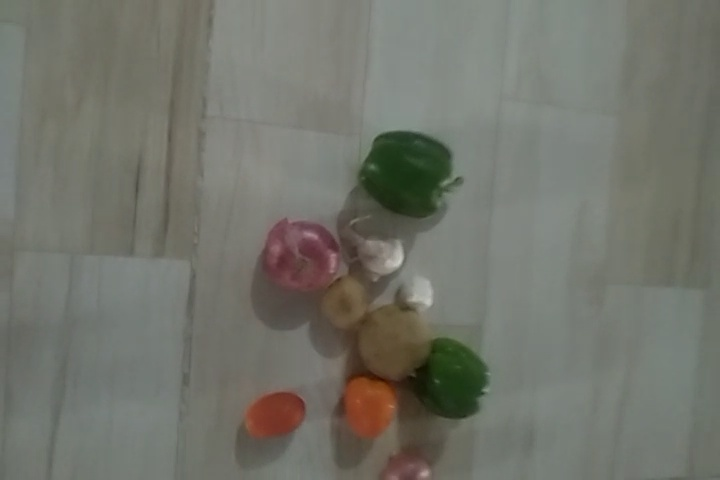capsicum: (358, 130, 451, 215), (420, 342, 491, 420)
garlic: (350, 237, 406, 279), (387, 272, 443, 312)
onion: (259, 222, 345, 293), (378, 452, 433, 480)
potato: (367, 310, 429, 374), (327, 282, 372, 336)
tomato: (244, 395, 311, 441), (350, 374, 394, 441)
